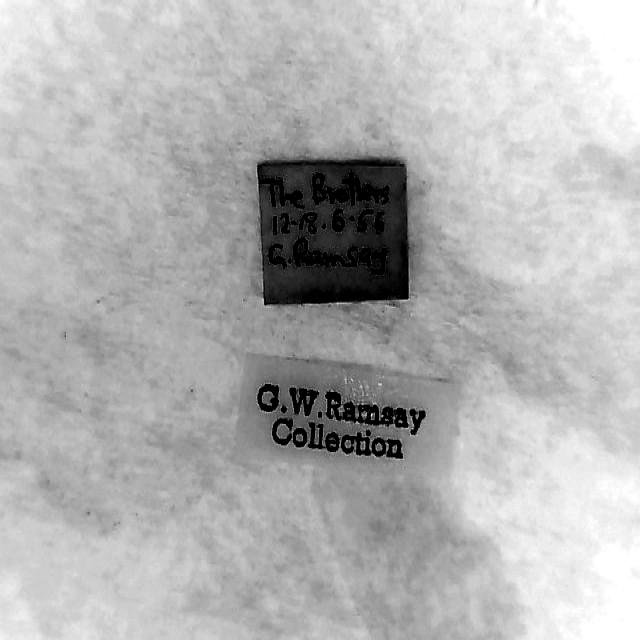hand_label: (259, 165, 407, 305)
typed_label: (236, 356, 458, 474)
